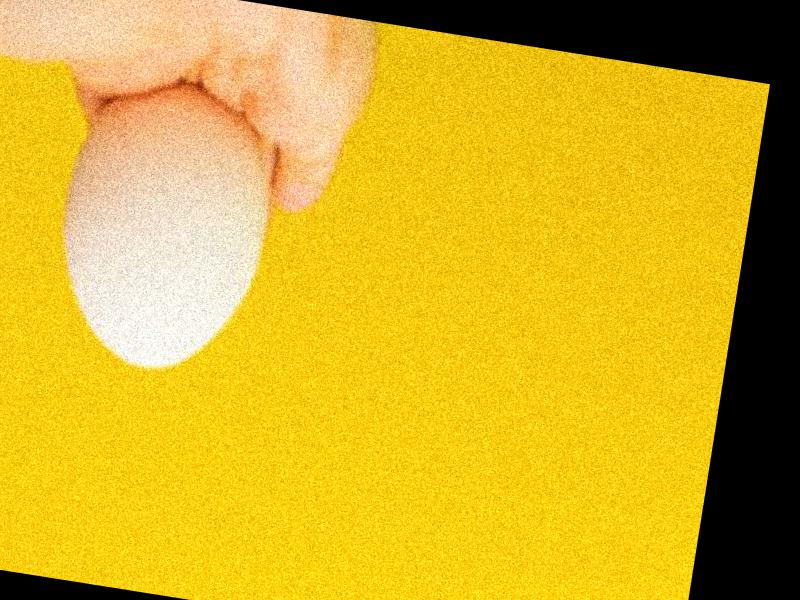Eggs: (50, 73, 284, 384)
